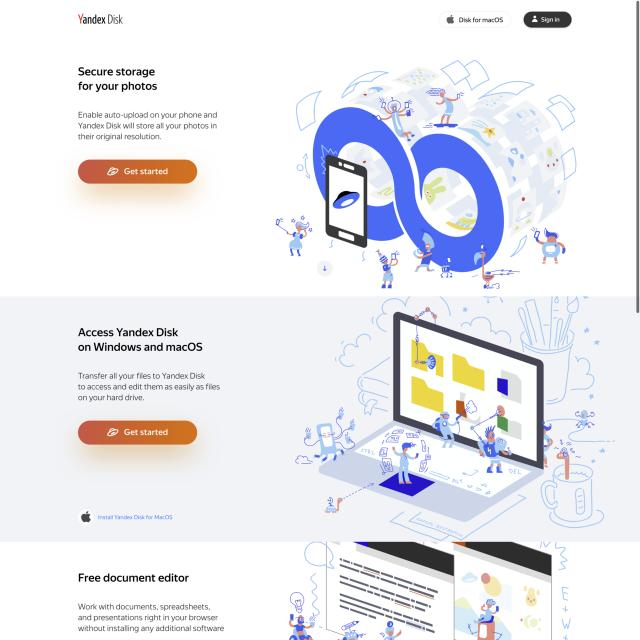CheckBox: (78, 158, 198, 186), (78, 420, 198, 446), (438, 11, 512, 28), (523, 11, 572, 28), (95, 512, 173, 522)
Input field: (76, 369, 222, 407), (74, 602, 226, 635), (78, 110, 220, 142)
bag: (0, 0, 637, 35)
breadcrumbs: (77, 327, 203, 355), (77, 65, 159, 93), (76, 570, 190, 586)
carousel: (106, 427, 119, 438), (106, 166, 120, 176)
content: (290, 297, 623, 540), (270, 54, 586, 294)
data feed: (124, 426, 169, 438), (124, 168, 170, 175)
date picker: (78, 11, 124, 26)
